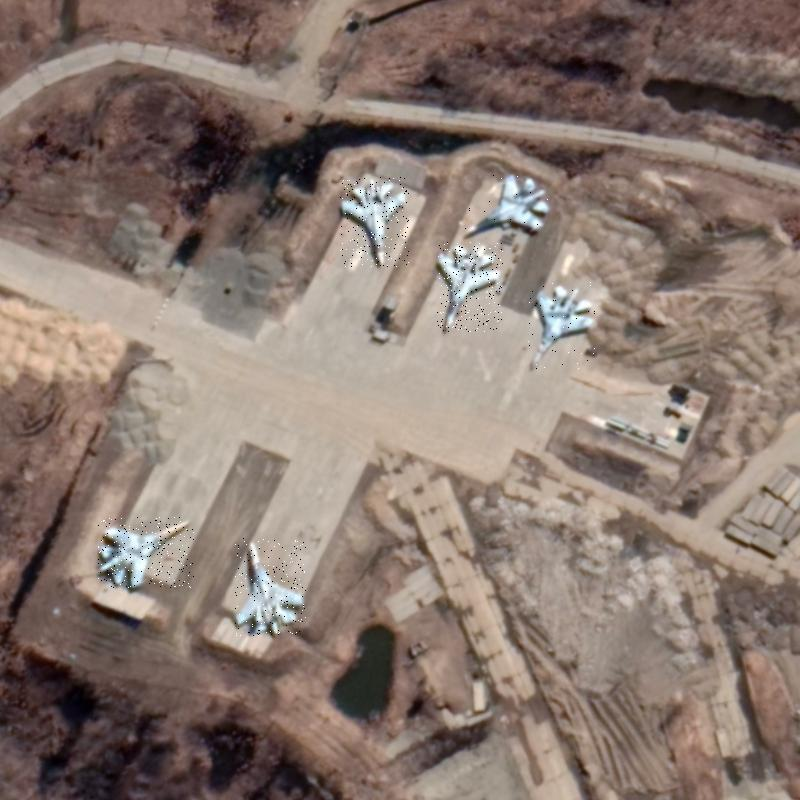A1: (235, 538, 306, 636), (98, 517, 194, 588), (528, 282, 598, 371), (340, 177, 409, 267), (437, 242, 503, 332), (462, 171, 551, 236)
